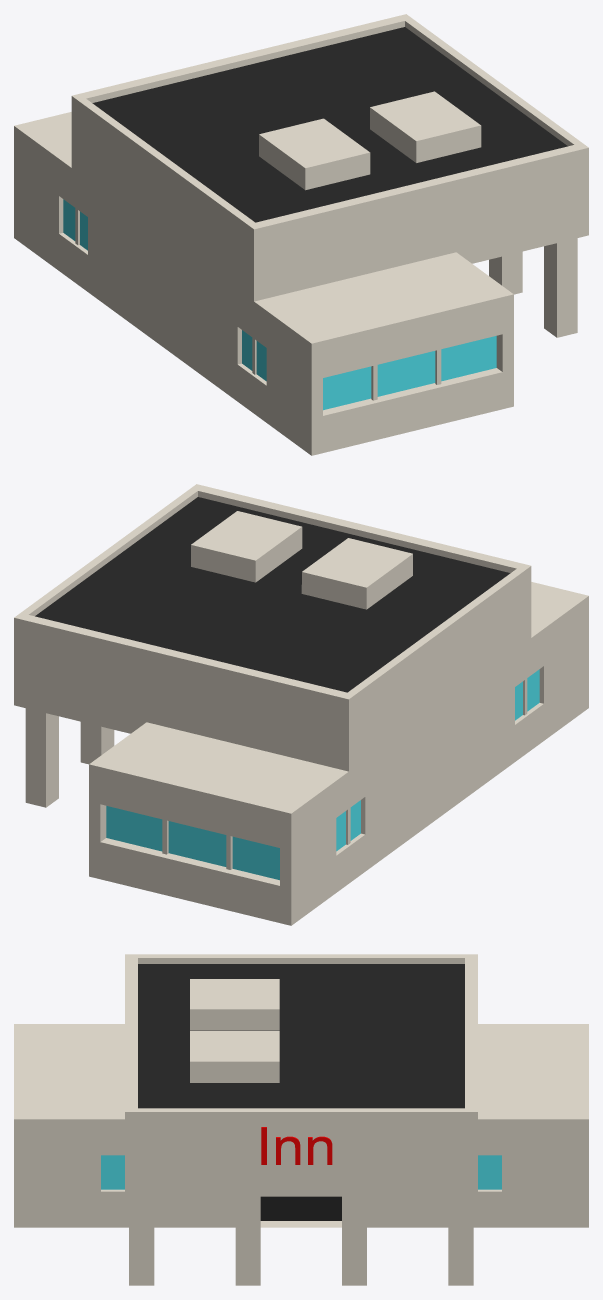
The model's file is ebf787e7-8210-4ba9-b12e-c2a961503af8.glb.
3 views of the same model, one above another, from view 1: azimuth 30°, elevation 25°; view 2: azimuth 150°, elevation 25°; view 3: azimuth 270°, elevation 25° (orthographic). The views are drawn at different scales.
Visible parts, largest first — view 1: Box028, Box027, Box020, Box031, Box030, Box026; view 2: Box028, Box027, Box031, Box020, Box018, Box017; view 3: Box028, Box027, Box020, Box031, Box018, Box026, Box030, Box017, Text002.
Boxes of the visible parts, x1=… form: Box028: x1=71, y1=14, x2=588, y2=316; Box027: x1=14, y1=112, x2=513, y2=455; Box020: x1=259, y1=118, x2=370, y2=190; Box031: x1=370, y1=91, x2=481, y2=162; Box030: x1=544, y1=238, x2=577, y2=337; Box026: x1=489, y1=251, x2=522, y2=294; Box028: x1=14, y1=484, x2=531, y2=786; Box027: x1=89, y1=582, x2=588, y2=925; Box031: x1=191, y1=511, x2=302, y2=582; Box020: x1=301, y1=538, x2=412, y2=609; Box018: x1=25, y1=708, x2=58, y2=807; Box017: x1=80, y1=721, x2=114, y2=764; Box028: x1=125, y1=954, x2=477, y2=1196; Box027: x1=14, y1=1024, x2=588, y2=1227; Box020: x1=190, y1=979, x2=279, y2=1030; Box031: x1=190, y1=1031, x2=279, y2=1082; Box018: x1=448, y1=1196, x2=473, y2=1285; Box026: x1=235, y1=1196, x2=260, y2=1285; Box030: x1=129, y1=1196, x2=154, y2=1285; Box017: x1=342, y1=1196, x2=366, y2=1285; Text002: x1=261, y1=1127, x2=332, y2=1164.
Bounding box in the file's own units: 352542 × 200577 × 540184.
